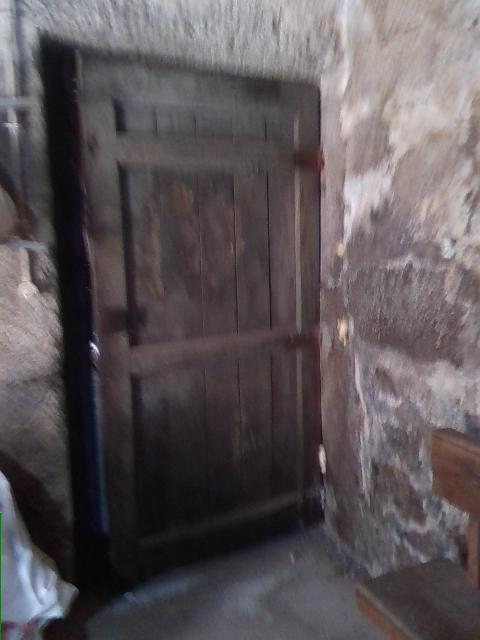door: (38, 33, 325, 594)
